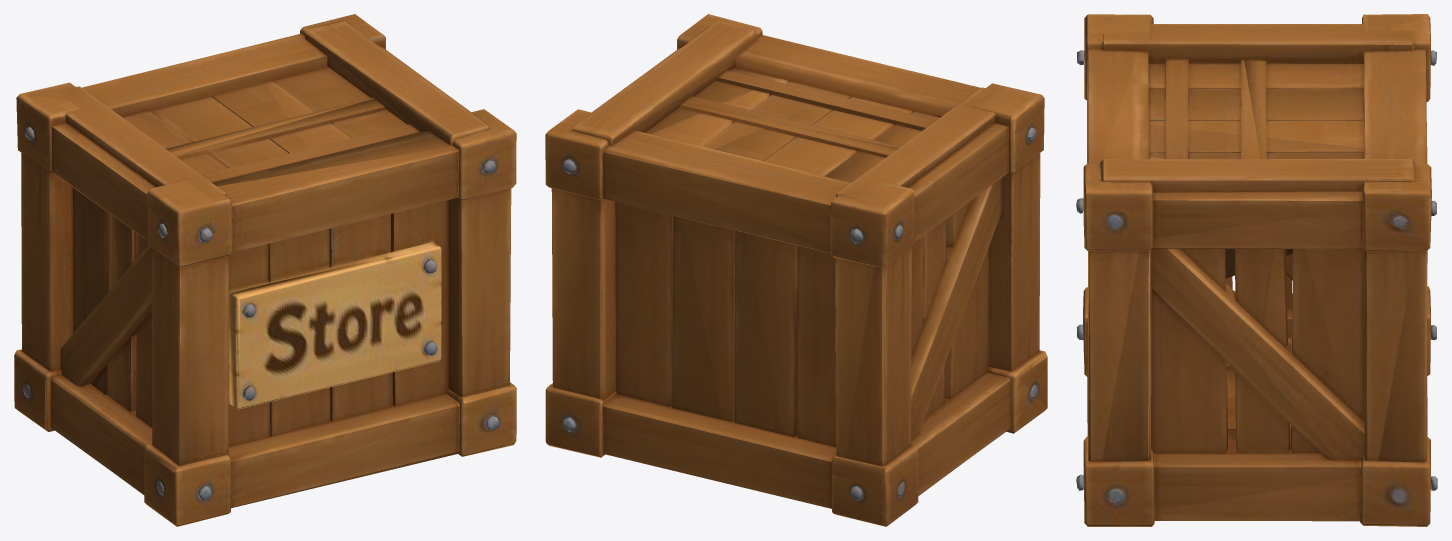
Rendered from store-crate.glb.
The picture shows the model from 3 angles, left to right: view 1: azimuth 30°, elevation 25°; view 2: azimuth 150°, elevation 25°; view 3: azimuth 270°, elevation 25°; orthographic projection. The views are drawn at different scales.
Bounding box in the file's own units: 1 × 0.8867 × 0.8535.
1 material, 1 textured.
